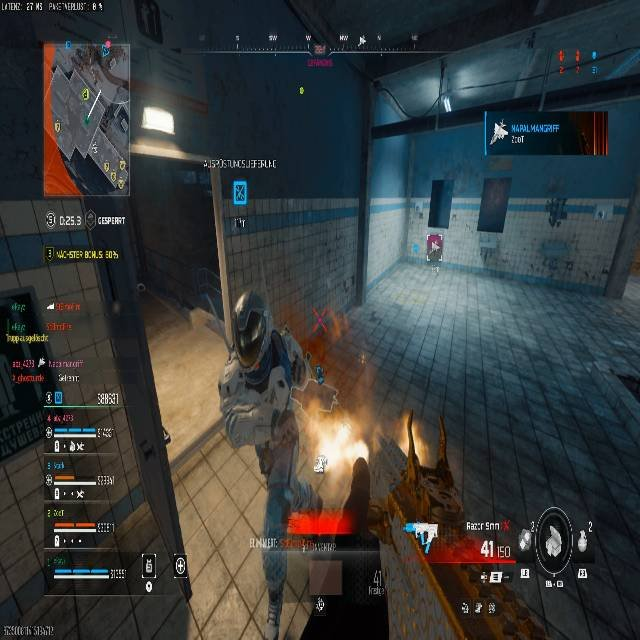head: (230, 290, 273, 363)
player: (196, 290, 339, 635), (544, 180, 571, 228)
